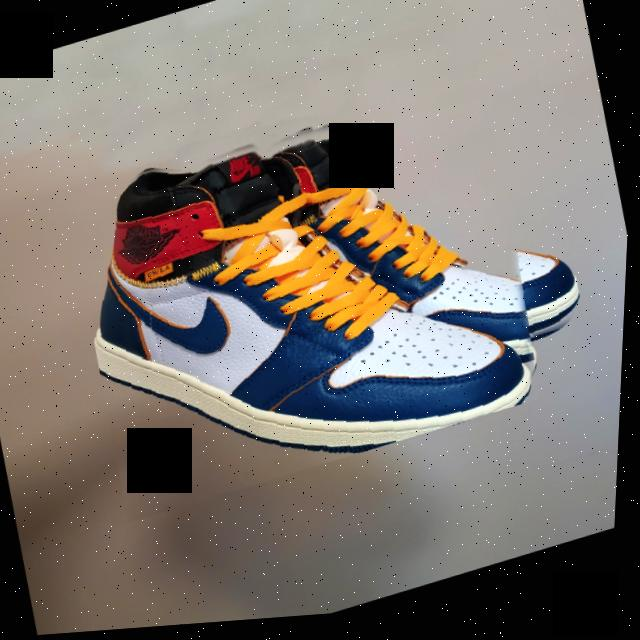shoe: (56, 67, 566, 529), (247, 63, 599, 422)
